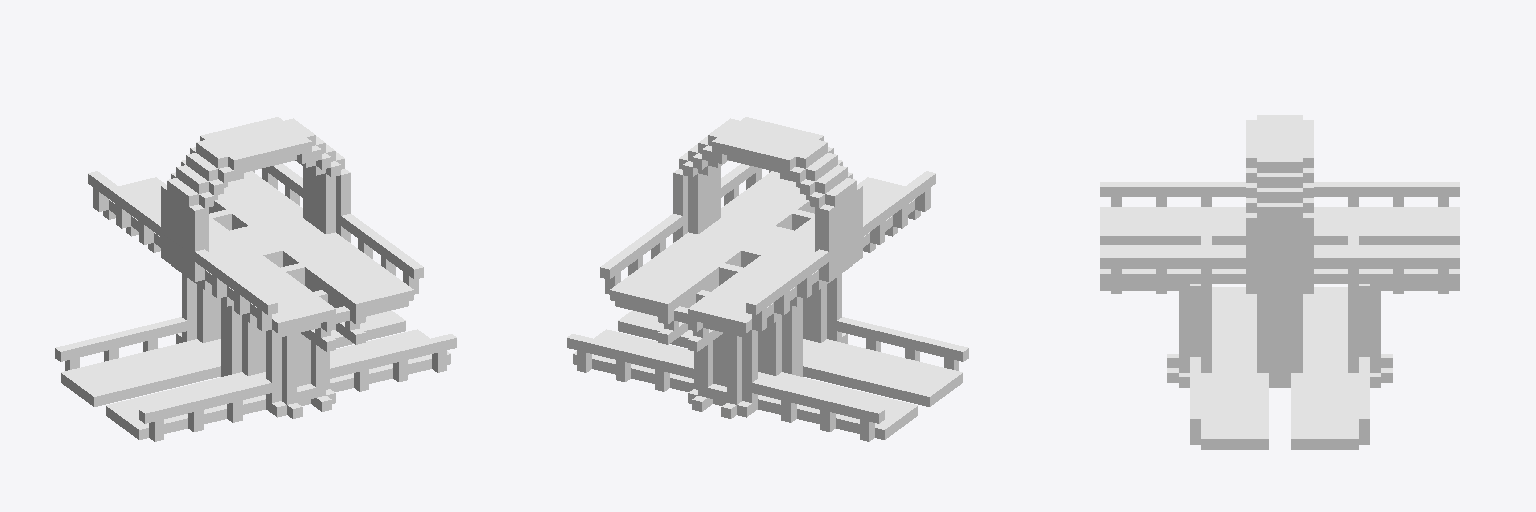
File: roadAndBridge.obj
3 views of the same model, side by side, from view 1: azimuth 30°, elevation 25°; view 2: azimuth 150°, elevation 25°; view 3: azimuth 270°, elevation 25° (orthographic).
Visible parts, largest first — view 1: object 1; view 2: object 1; view 3: object 1.
Boxes of the visible parts, x1=… form: object 1: x1=55, y1=117, x2=456, y2=441; object 1: x1=567, y1=117, x2=968, y2=441; object 1: x1=1100, y1=115, x2=1459, y2=449.
Size of the model in its own units: 3.2 by 2.3 by 3.2.